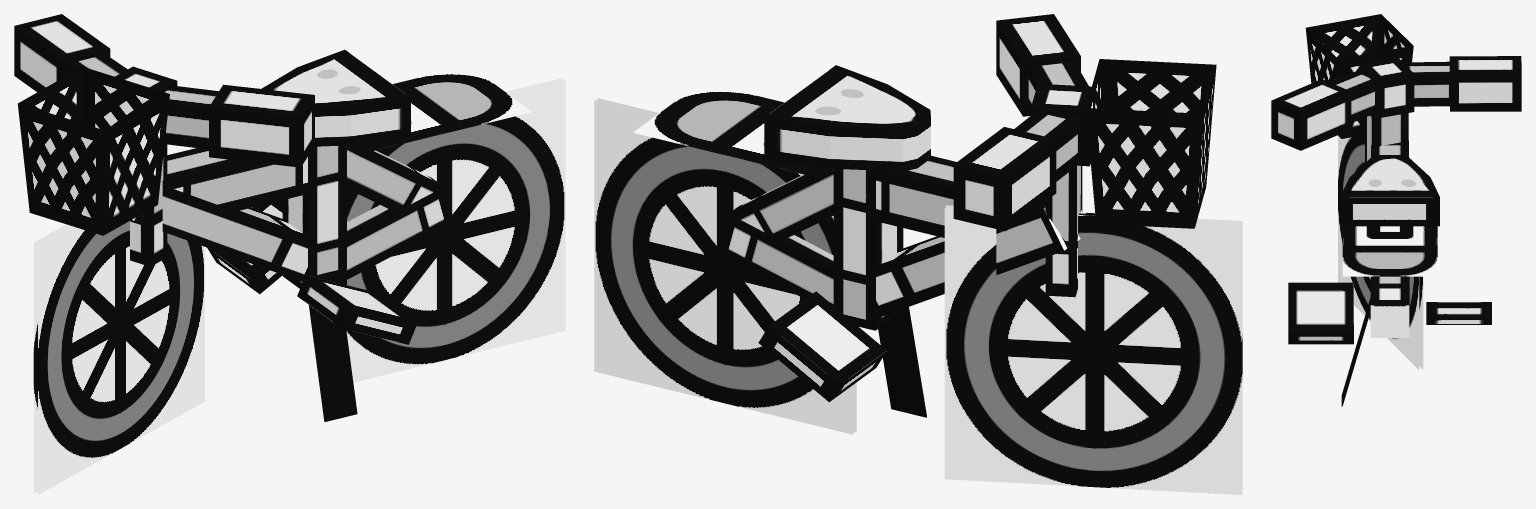
Rendered from cycle.glb.
3 views of the same model, side by side, from view 1: azimuth 30°, elevation 25°; view 2: azimuth 150°, elevation 25°; view 3: azimuth 270°, elevation 25° (orthographic). The views are drawn at different scales.
Visible parts, largest first — view 1: Cycle; view 2: Cycle; view 3: Cycle.
Boxes of the visible parts, bbox=[...] form: Cycle: bbox=[14, 14, 565, 494]; Cycle: bbox=[594, 14, 1242, 494]; Cycle: bbox=[1271, 14, 1521, 406].
Bounding box in the file's own units: 5.1 × 3.19 × 2.6.
1 material, 1 textured.
